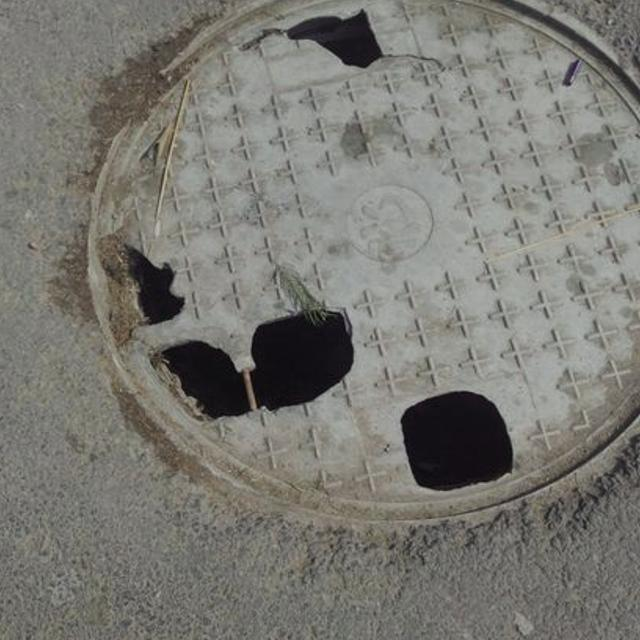broke: (41, 0, 640, 545)
